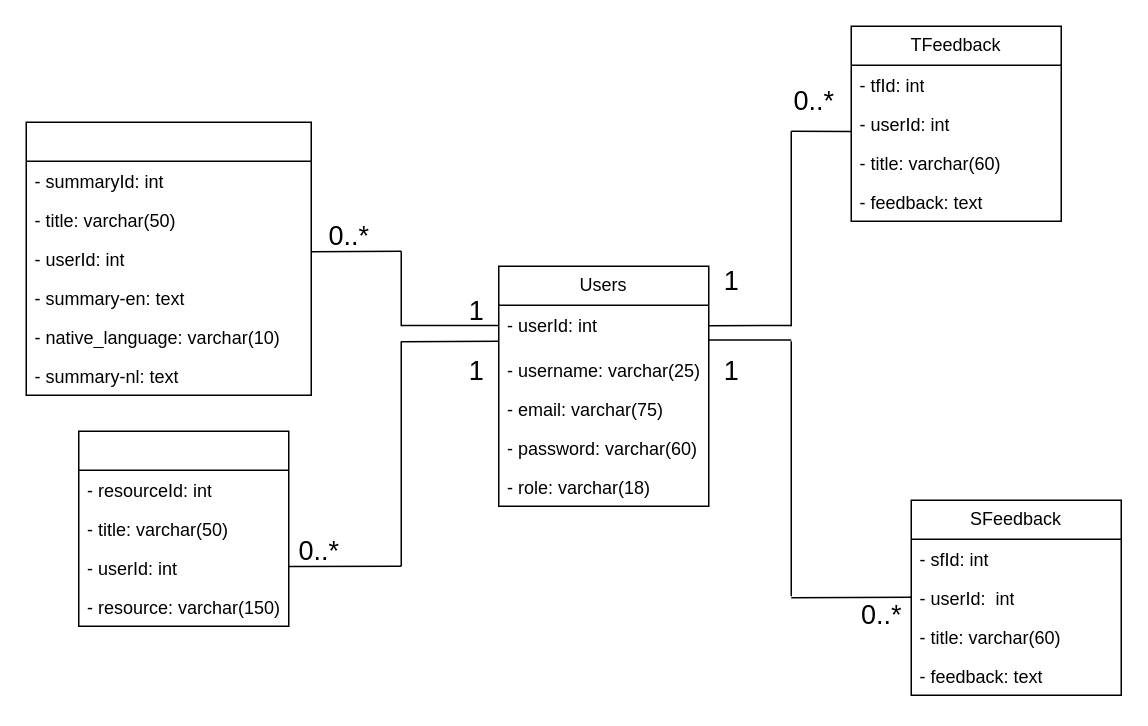
This 1148x726 diagram has some shape labels left out. The box of each missing label's shape, as (x1, y1, x2, y2) in pixels:
Study_Material: (77, 430, 289, 626)
Summary_Table: (25, 121, 311, 395)
